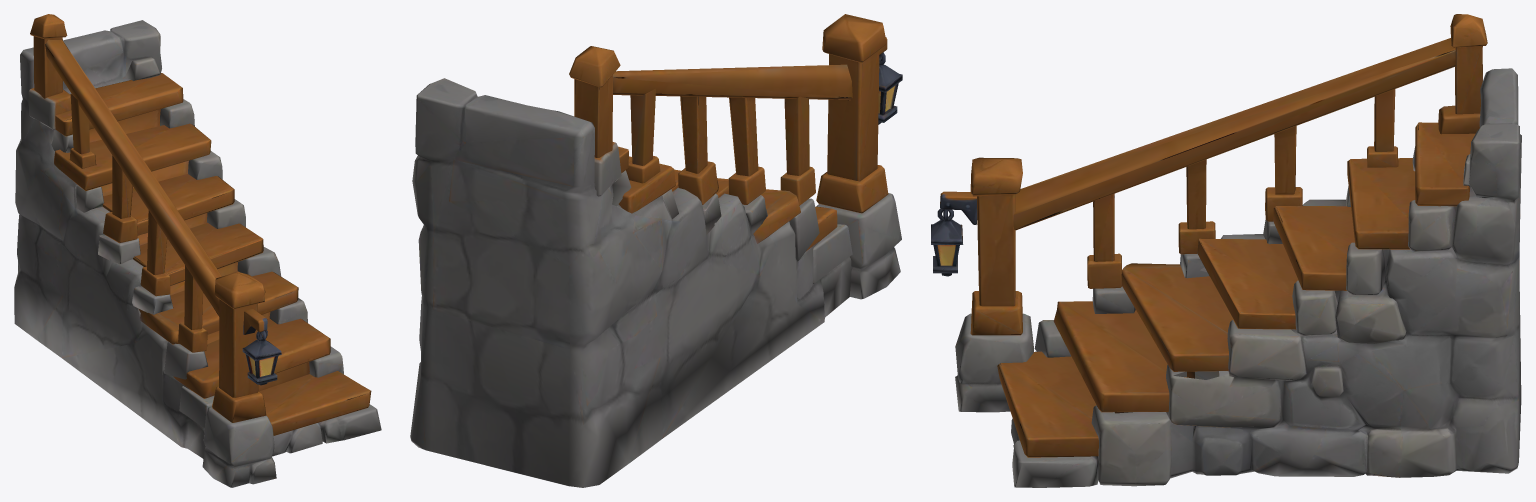
The model's file is escalier.glb.
3 renders of one model, left to right at view 1: azimuth 30°, elevation 25°; view 2: azimuth 150°, elevation 25°; view 3: azimuth 270°, elevation 25°, orthographic. The views are drawn at different scales.
Parts seen in each view (by area): view 1: geometry_0; view 2: geometry_0; view 3: geometry_0.
Part boxes in pixels (<box>): geometry_0: <box>14,14,381,487</box>; geometry_0: <box>410,14,902,487</box>; geometry_0: <box>931,14,1521,487</box>.
Size of the model in its own units: 0.4053 by 0.6929 by 0.96.
1 material, 1 textured.
